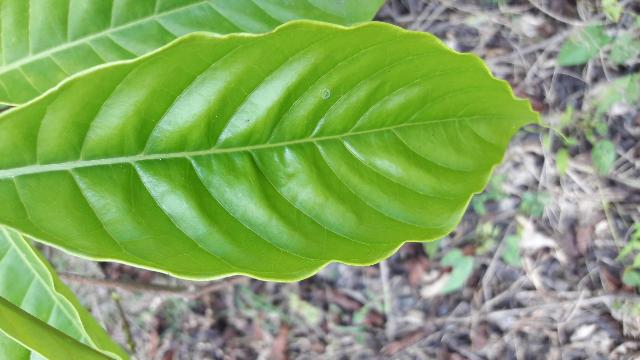healthy: (2, 21, 565, 282)
